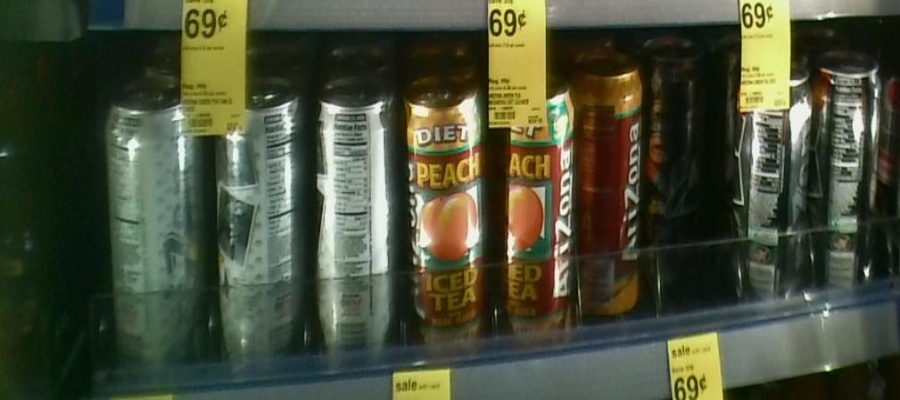bottle: (97, 64, 211, 382), (213, 49, 308, 391), (309, 59, 400, 371), (400, 65, 492, 352), (498, 62, 576, 355), (731, 60, 811, 301), (578, 47, 641, 322), (817, 42, 883, 304)
